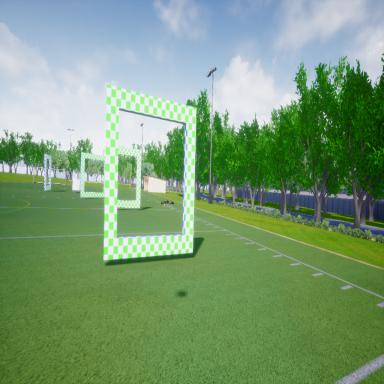gate: (102, 78, 199, 272), (42, 150, 52, 195)
